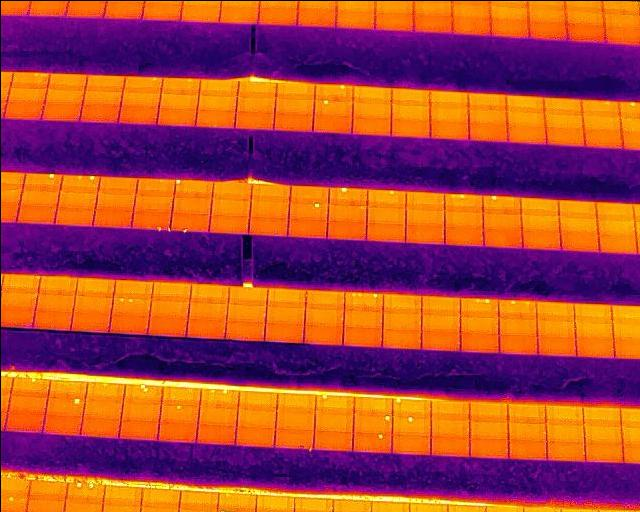Cell: (352, 431, 391, 452), (327, 185, 366, 204), (44, 396, 85, 414), (170, 213, 209, 231), (288, 201, 327, 219), (392, 415, 431, 433), (174, 179, 213, 197), (367, 188, 405, 206), (10, 378, 47, 396), (353, 414, 392, 431), (159, 404, 198, 421), (391, 398, 430, 415), (579, 99, 618, 116), (23, 172, 62, 188), (123, 76, 162, 92), (315, 395, 353, 411), (314, 99, 352, 115), (482, 194, 519, 210), (161, 77, 200, 92), (314, 84, 352, 99)
Cell-Multi: (66, 482, 103, 502), (459, 298, 498, 316), (111, 297, 150, 315), (199, 389, 238, 407), (344, 291, 382, 309), (132, 211, 170, 229), (61, 173, 99, 191), (9, 70, 50, 86), (497, 300, 535, 317), (444, 194, 483, 210), (124, 385, 162, 401)
No-Anomaly: (303, 324, 343, 345), (235, 426, 274, 447), (273, 429, 313, 449), (157, 421, 197, 441), (584, 442, 622, 463), (366, 222, 405, 242), (595, 201, 634, 221), (335, 7, 374, 27), (297, 6, 336, 26), (545, 440, 584, 460), (391, 433, 430, 453), (459, 333, 498, 353), (264, 322, 303, 342), (92, 209, 133, 228), (33, 309, 70, 330), (508, 440, 546, 460), (42, 414, 82, 433), (314, 411, 352, 431), (275, 410, 315, 429), (421, 331, 459, 351), (343, 326, 381, 346), (147, 317, 187, 336), (28, 482, 67, 501), (382, 293, 421, 312), (1, 273, 40, 292), (405, 224, 444, 243), (248, 216, 287, 235), (430, 435, 469, 454), (583, 423, 622, 442), (468, 420, 507, 439), (582, 406, 621, 425), (381, 329, 420, 348), (225, 321, 264, 340), (71, 313, 110, 332), (197, 423, 234, 443), (111, 314, 148, 334), (141, 0, 182, 18), (535, 301, 573, 320), (38, 275, 76, 294), (558, 199, 596, 218), (602, 6, 640, 25), (314, 430, 352, 449), (431, 417, 469, 436), (84, 399, 122, 418), (141, 489, 179, 508), (104, 486, 142, 505), (187, 319, 225, 338), (313, 115, 351, 134), (413, 13, 451, 32), (210, 197, 250, 215), (104, 0, 144, 18), (4, 414, 44, 432), (7, 396, 47, 414), (3, 100, 43, 118), (77, 105, 119, 122), (120, 418, 157, 437), (217, 492, 254, 511), (180, 492, 217, 511), (75, 278, 114, 296), (482, 228, 521, 246), (326, 219, 365, 237), (287, 218, 326, 236), (209, 215, 248, 233), (520, 214, 559, 232), (249, 199, 288, 217), (171, 196, 210, 214), (405, 191, 444, 209), (468, 439, 507, 457), (81, 417, 120, 435), (236, 408, 275, 426), (468, 402, 507, 420), (535, 320, 574, 338), (20, 188, 59, 206), (251, 183, 290, 201), (390, 120, 429, 138), (351, 118, 390, 136), (235, 112, 274, 130), (119, 105, 158, 123), (528, 20, 567, 38), (489, 18, 528, 36), (218, 5, 259, 22), (180, 4, 221, 21), (120, 402, 161, 419), (85, 75, 126, 92), (188, 301, 226, 319), (190, 284, 228, 302), (445, 227, 483, 245), (482, 209, 520, 227), (134, 194, 172, 212), (96, 191, 134, 209), (58, 190, 96, 208), (375, 10, 413, 28), (566, 5, 604, 23), (508, 421, 546, 439), (198, 407, 236, 425), (544, 405, 582, 423), (238, 390, 276, 408), (575, 338, 613, 356), (498, 335, 536, 353), (498, 317, 536, 335), (460, 315, 498, 333), (290, 184, 328, 202), (429, 121, 467, 139), (264, 305, 304, 322), (304, 289, 344, 306), (520, 232, 560, 249), (573, 303, 610, 321), (0, 291, 37, 309), (55, 208, 92, 226), (18, 205, 55, 223), (508, 403, 545, 421), (343, 310, 382, 327), (226, 304, 265, 321), (421, 296, 460, 313), (72, 296, 111, 313), (151, 283, 190, 300), (597, 236, 636, 253), (559, 218, 598, 235), (443, 209, 482, 226), (519, 197, 558, 214), (258, 7, 297, 24), (489, 1, 528, 18), (421, 313, 460, 330), (382, 312, 421, 329), (582, 130, 621, 147), (274, 114, 313, 131), (351, 101, 390, 118), (566, 23, 605, 40), (450, 17, 489, 34), (1, 308, 34, 328), (150, 300, 188, 317), (36, 293, 74, 310), (267, 288, 305, 305), (113, 280, 151, 297), (527, 3, 565, 20), (545, 423, 583, 440), (430, 400, 468, 417), (353, 396, 391, 413), (276, 393, 314, 410), (537, 338, 575, 355), (574, 321, 612, 338), (42, 104, 80, 121), (504, 94, 542, 111), (64, 0, 107, 15), (160, 388, 200, 404), (274, 98, 314, 114), (235, 96, 275, 112), (82, 90, 122, 106), (256, 495, 293, 512), (136, 177, 173, 194), (545, 128, 582, 145), (304, 307, 343, 323), (227, 287, 266, 303), (451, 0, 490, 16), (212, 182, 251, 198), (467, 123, 506, 139), (506, 126, 545, 142), (581, 114, 620, 130), (505, 110, 544, 126), (196, 110, 235, 126), (390, 104, 429, 120), (542, 97, 581, 113), (159, 93, 198, 109), (390, 87, 429, 103), (8, 86, 47, 102), (351, 85, 390, 101), (27, 0, 68, 15), (560, 235, 598, 251), (48, 380, 86, 396), (99, 176, 137, 192), (157, 109, 195, 125), (429, 91, 467, 107), (276, 82, 314, 98), (48, 73, 86, 89), (467, 92, 504, 108), (46, 88, 83, 104), (603, 25, 640, 41), (596, 221, 635, 236), (405, 209, 444, 224), (366, 207, 405, 222), (85, 384, 124, 399), (544, 113, 583, 128), (196, 95, 235, 110), (199, 79, 238, 94), (467, 108, 505, 123), (429, 107, 467, 122), (237, 82, 277, 96), (327, 205, 366, 219), (120, 92, 159, 106)
